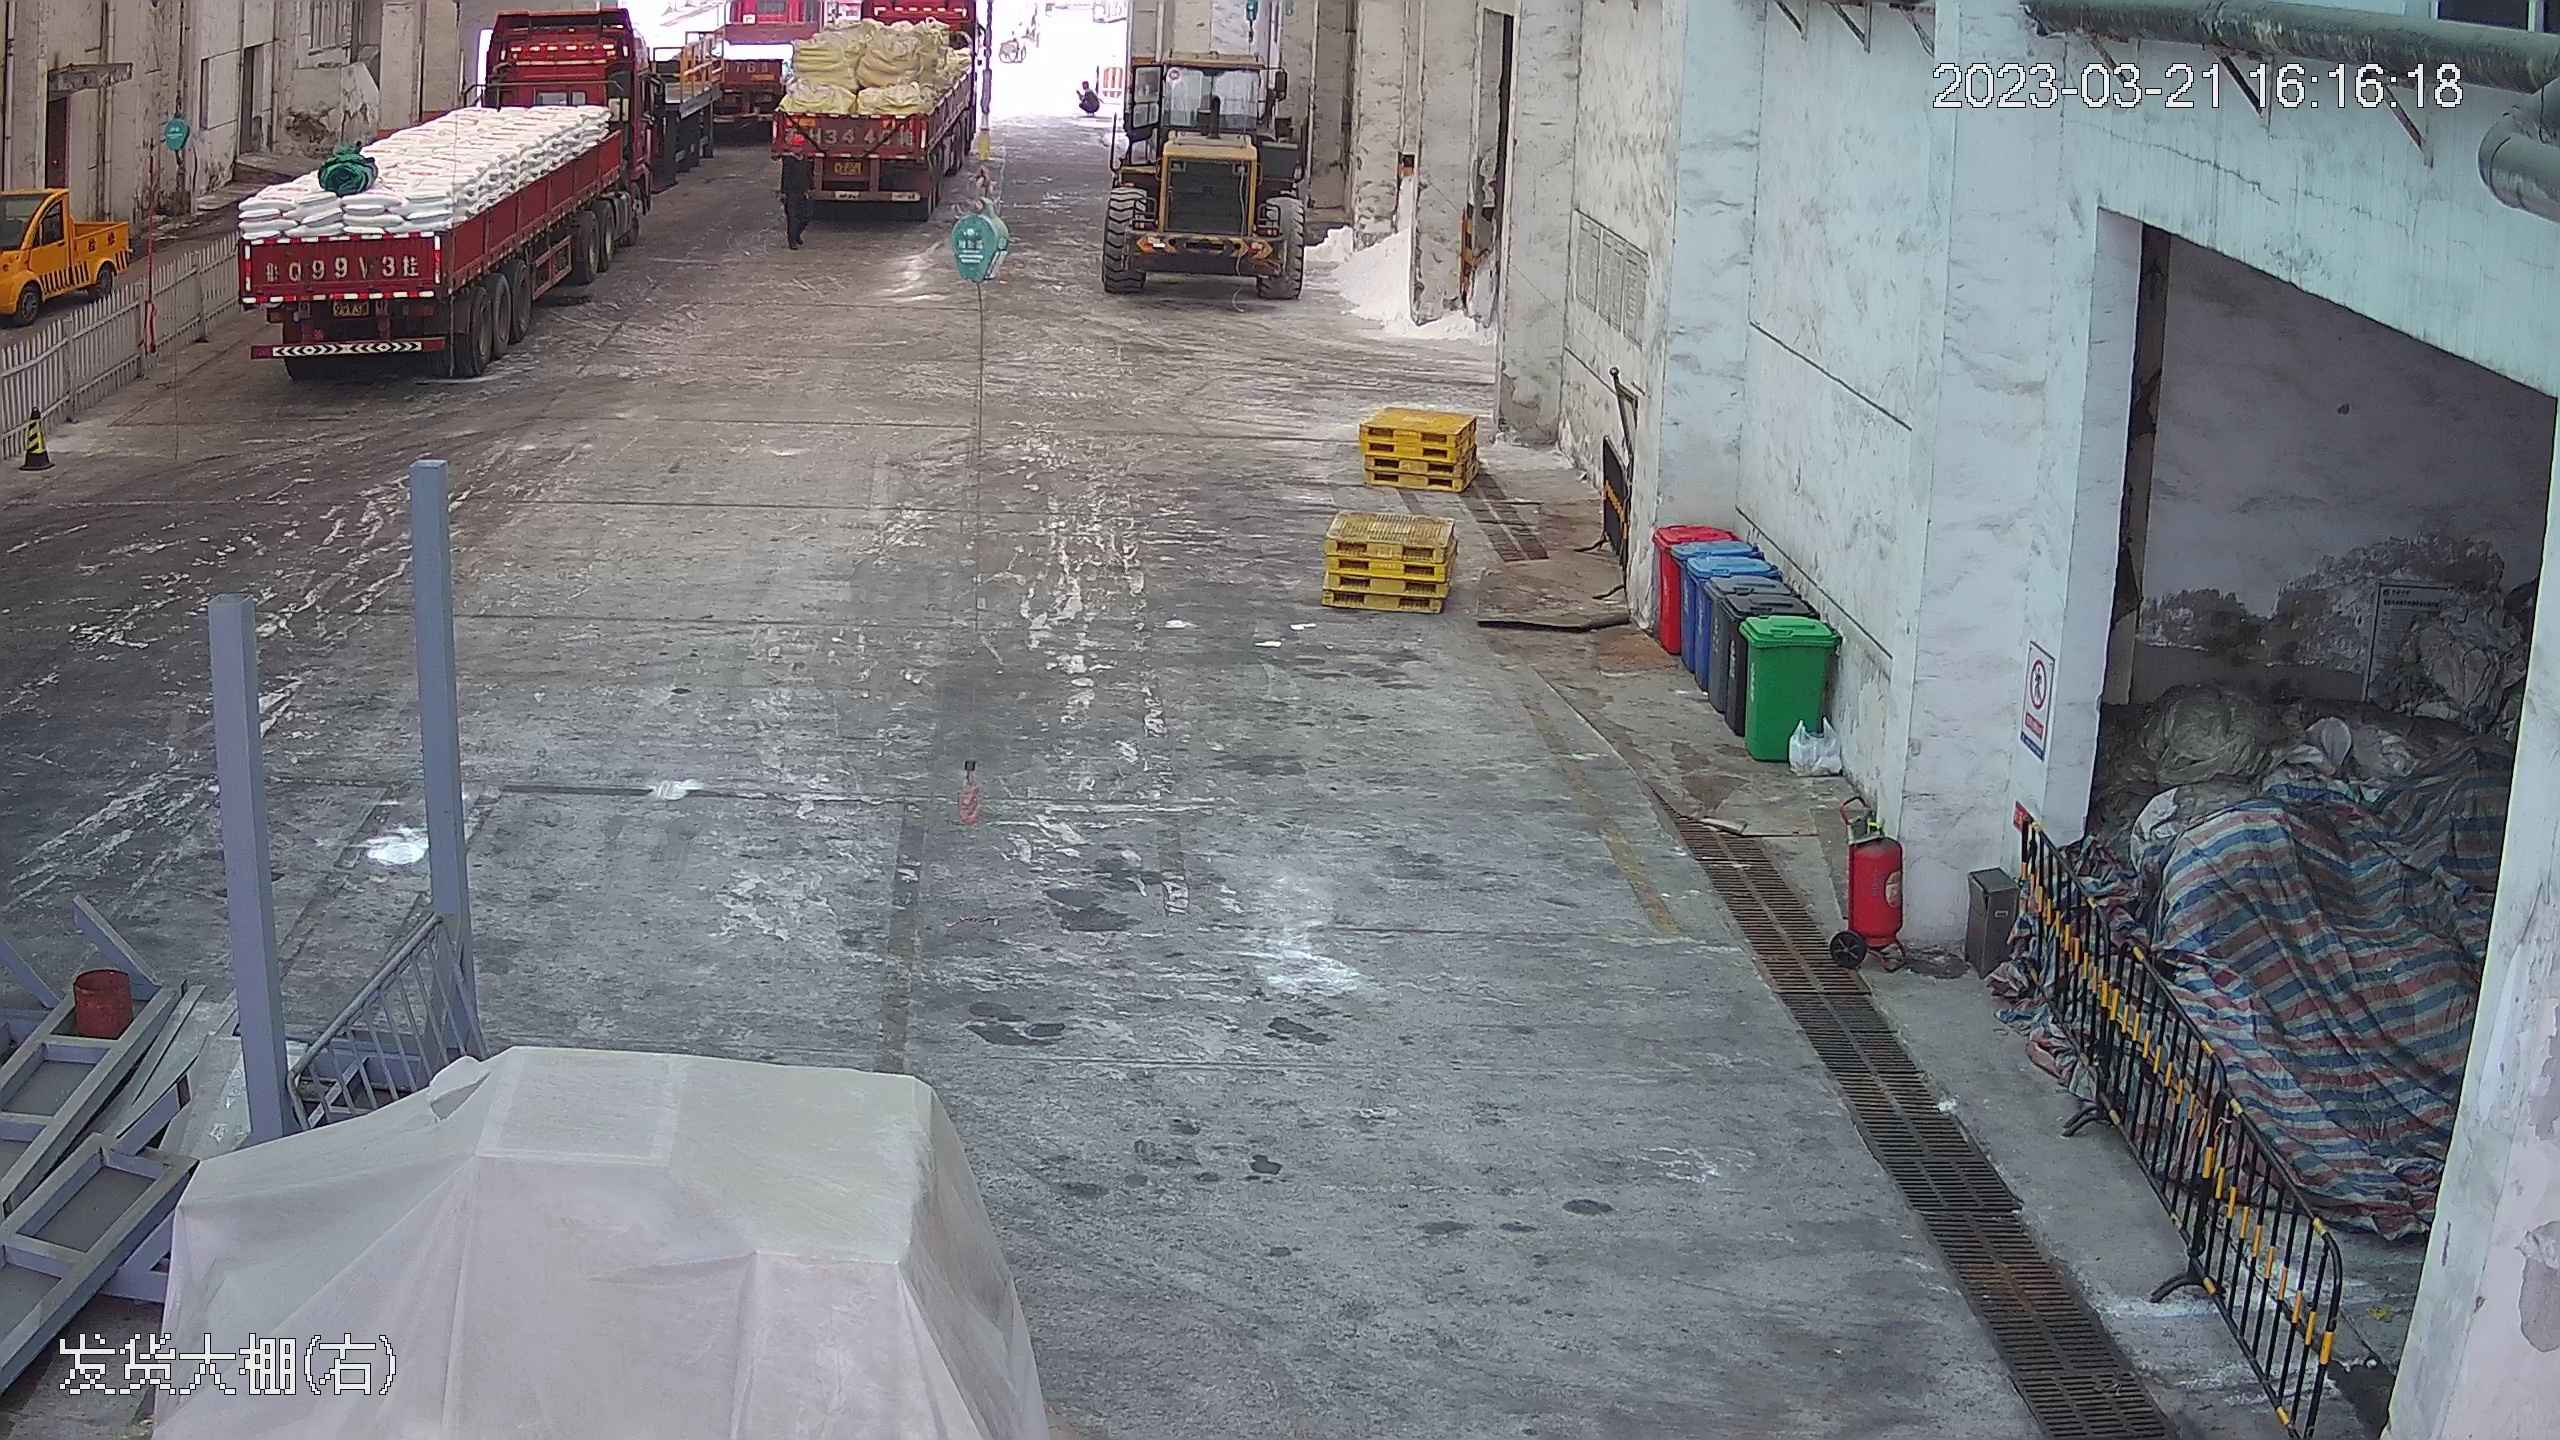head: (784, 132, 812, 174)
helmet: (790, 132, 806, 148)
people: (773, 125, 815, 250)
truck: (228, 6, 675, 369), (767, 6, 983, 212)
